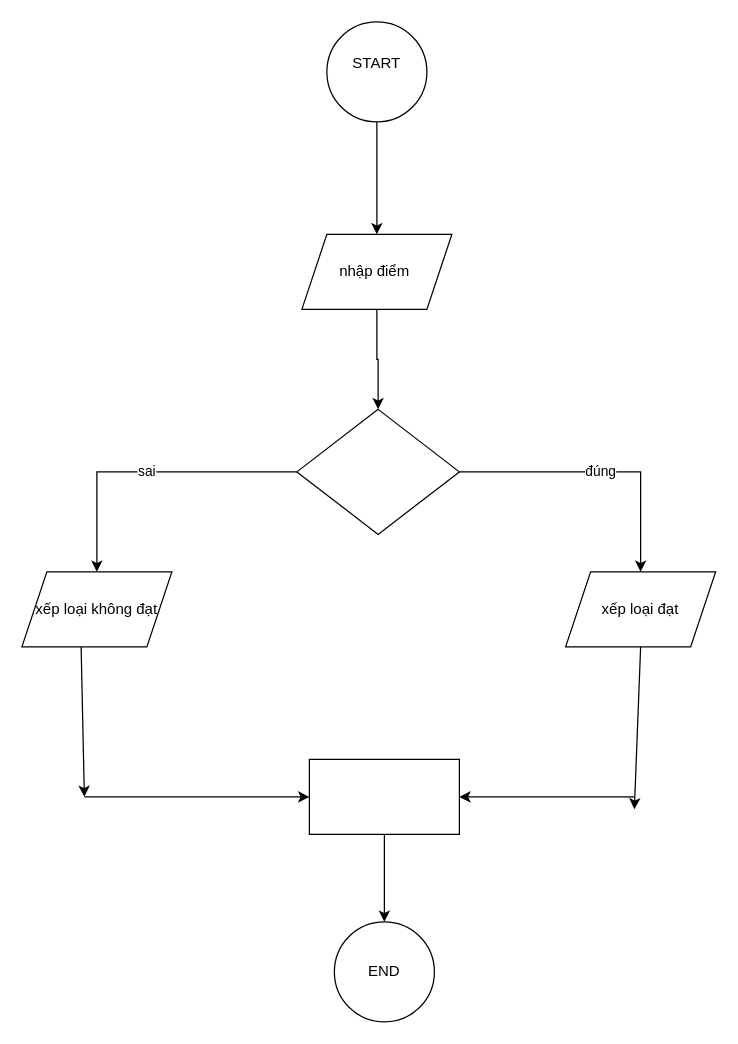
This 738x1044 diagram has some shape labels left out. The box of each missing label's shape, as (x1, y1, x2, y2) in pixels:
hiển thị xếp loại: (308, 758, 459, 834)
điểm >=5: (296, 408, 459, 534)
